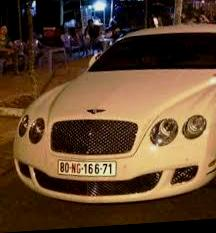License_Plate: (58, 154, 118, 181)
